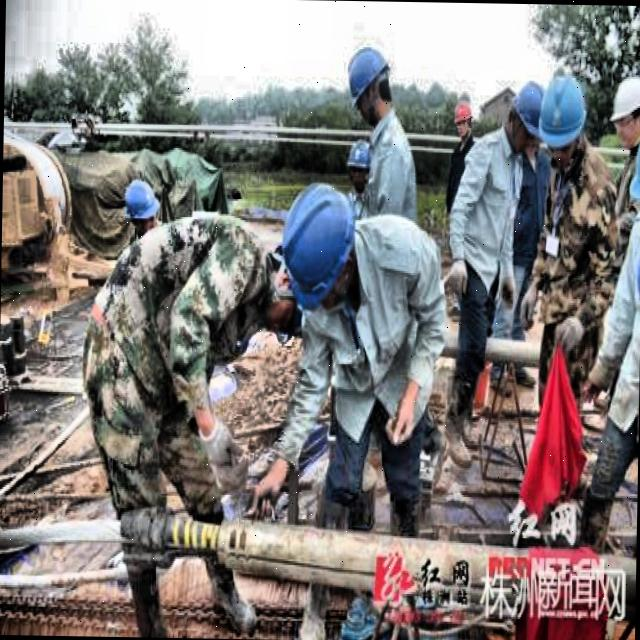helmet: (274, 178, 360, 316), (530, 65, 587, 162), (341, 39, 395, 128), (510, 78, 550, 156), (608, 68, 640, 148), (120, 180, 160, 238), (346, 136, 376, 192), (452, 95, 477, 141)
